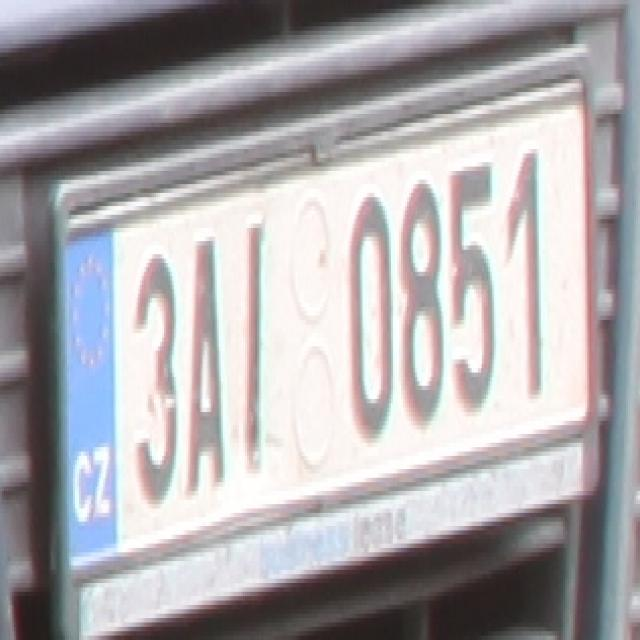0: (344, 184, 395, 452)
1: (502, 136, 543, 412)
3: (128, 241, 176, 500)
5: (448, 153, 496, 421)
8: (399, 171, 444, 430)
A: (184, 232, 229, 496)
